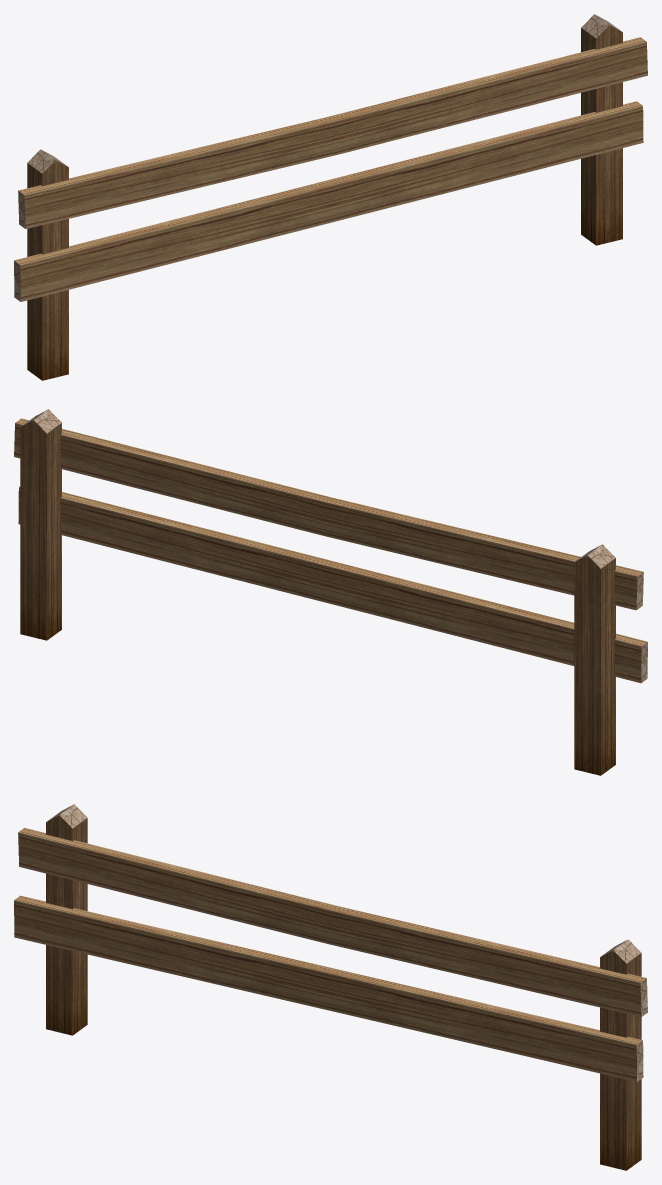
The model's file is FenceWood.FBX.
3 views of the same model, one above another, from view 1: azimuth 30°, elevation 25°; view 2: azimuth 150°, elevation 25°; view 3: azimuth 330°, elevation 25° (orthographic).
Visible parts, largest first — view 1: FenceWood; view 2: FenceWood; view 3: FenceWood.
Boxes of the visible parts, x1,y1,x2,y2 form: FenceWood: (14, 14, 647, 380); FenceWood: (14, 409, 647, 775); FenceWood: (14, 804, 647, 1170).
Size of the model in its own units: 345 by 114 by 19.17.
